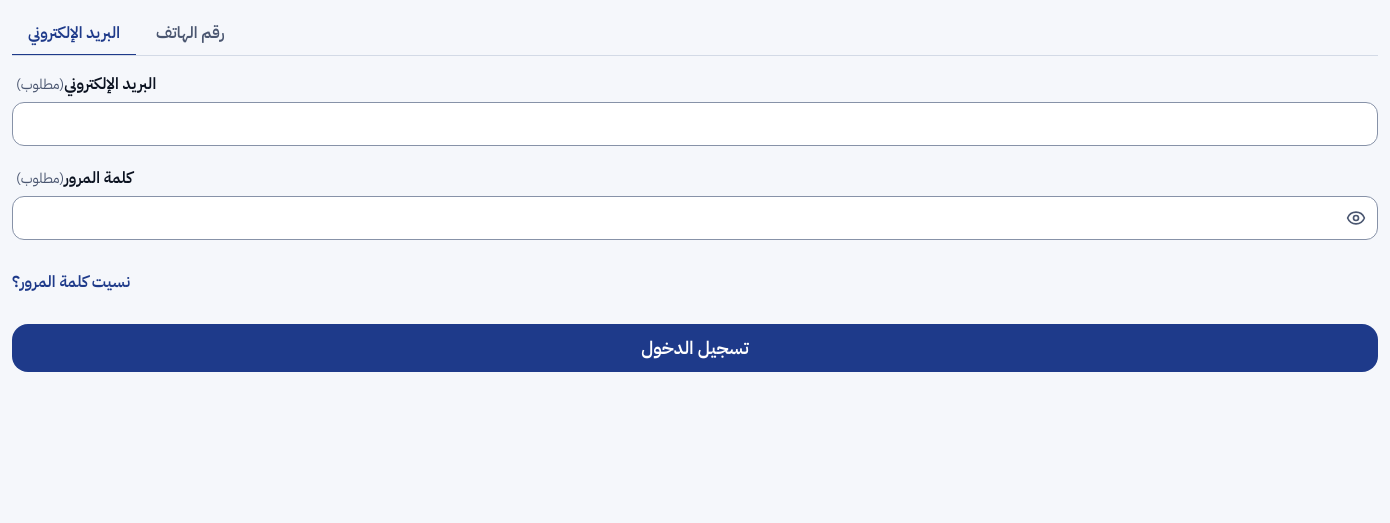
Test: LoginForm › shows a wrong password as a form error and keeps the input
Type "Sara@Example.com" into the field labelled "البريد الإلكتروني(مطلوب)" at coordinates (695, 124), box [12,102,1378,146]
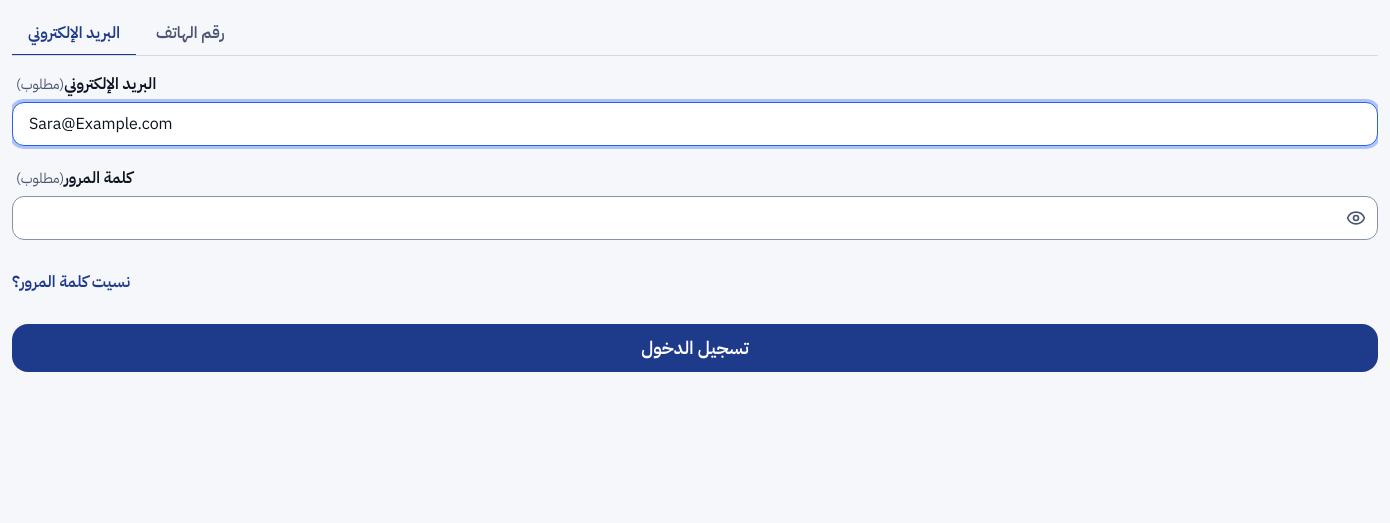
Type "secret" into the password field named "password" at coordinates (695, 218), box [12,196,1378,240]
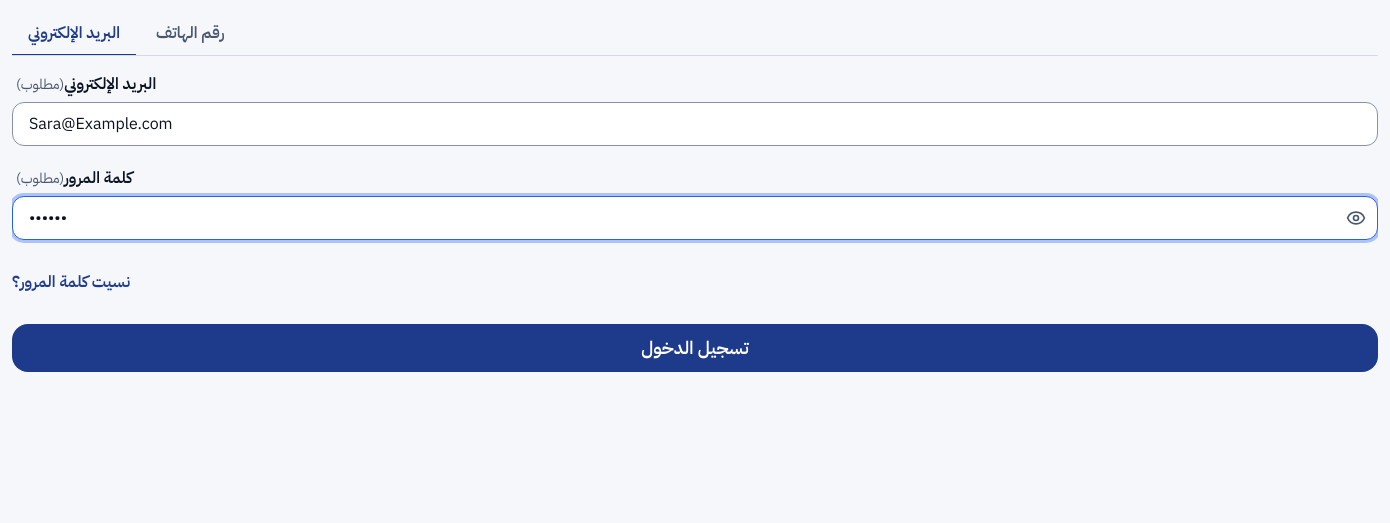
Click the button "تسجيل الدخول" at coordinates (695, 348), box [12,324,1378,372]
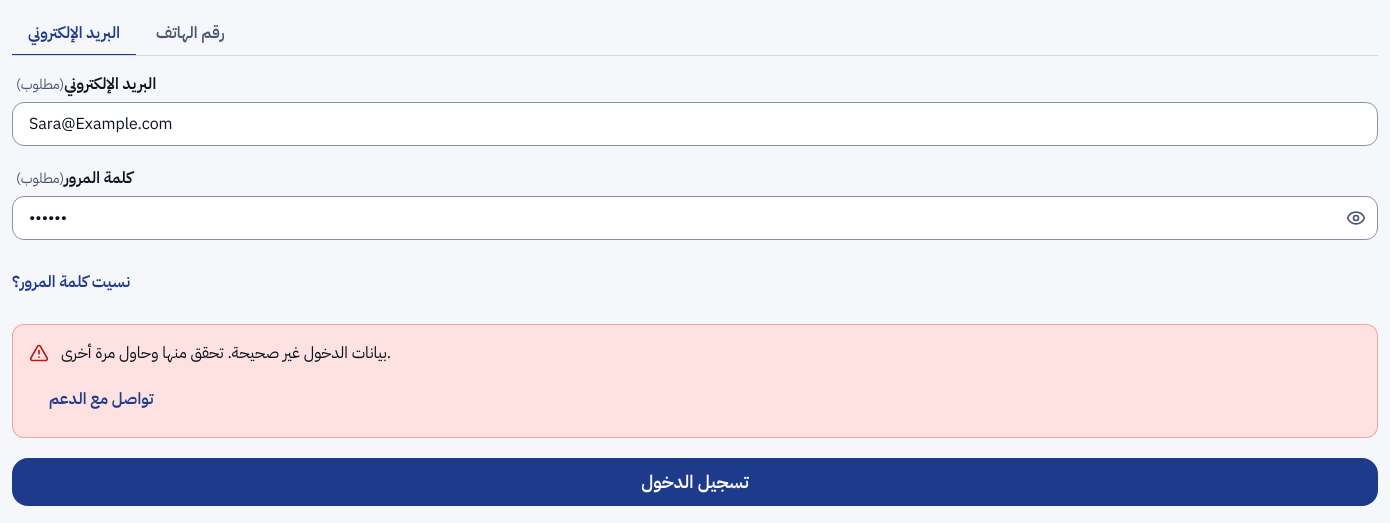
Now the text "بيانات الدخول غير صحيحة. تحقق منها وحاول مرة أخرى." is shown, box [61,341,391,365]
